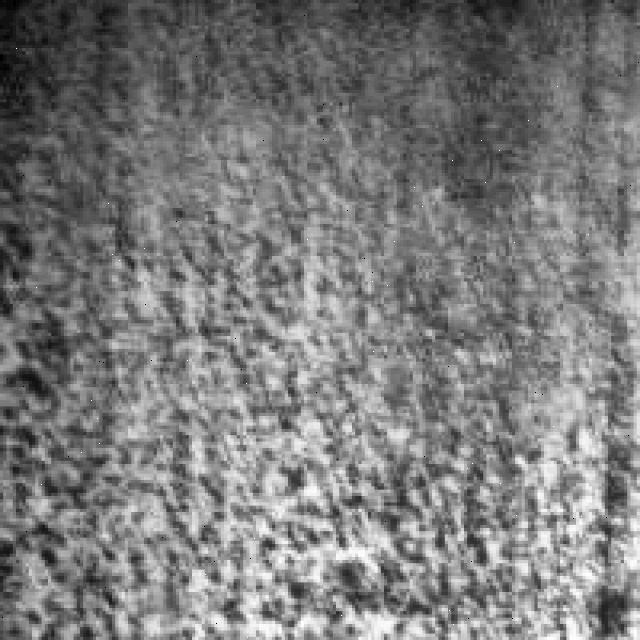Rolled_in_Scale: (7, 150, 534, 630)
